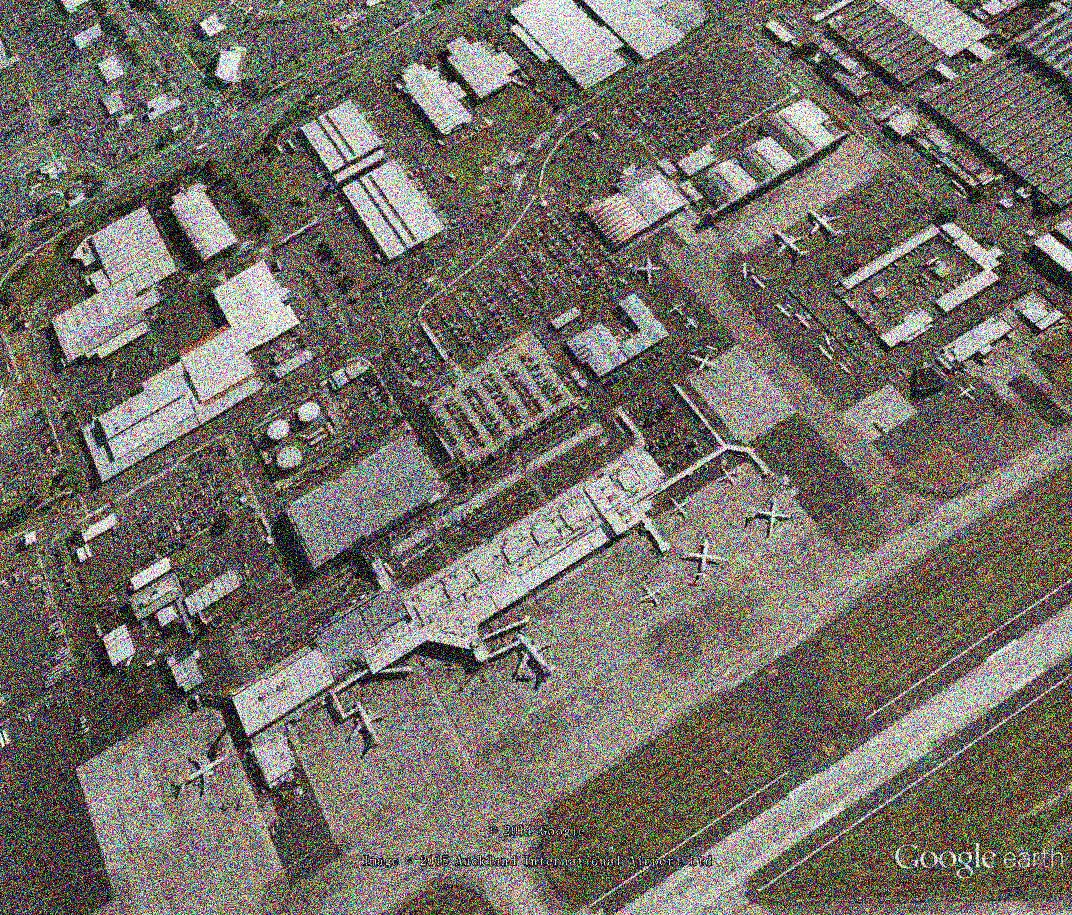aircraft: (170, 753, 236, 804), (344, 697, 392, 760), (511, 630, 561, 688), (745, 489, 796, 543), (682, 537, 732, 582), (804, 208, 847, 247), (685, 340, 724, 381), (772, 229, 813, 264), (631, 252, 666, 289), (636, 580, 669, 610), (715, 465, 741, 495), (666, 495, 693, 523), (952, 381, 981, 406), (661, 298, 690, 321), (735, 259, 760, 285), (794, 309, 816, 331), (816, 343, 837, 366), (750, 273, 771, 294), (832, 360, 855, 379), (775, 301, 794, 321), (682, 316, 703, 333), (819, 333, 835, 351)
